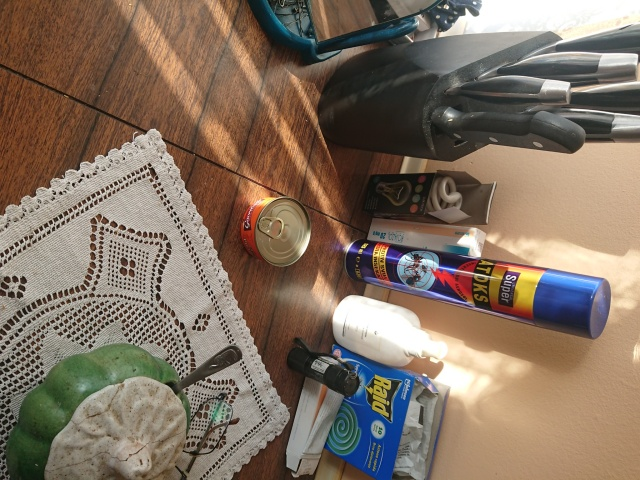Gavrilovic Pork Liver Pate 100g: (238, 194, 314, 270)
